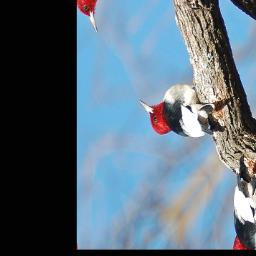Woodpecker: (136, 44, 225, 177)
